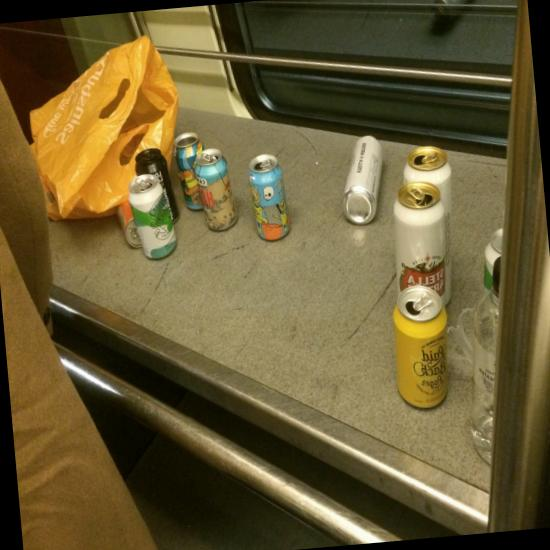Clear plastic bottle: (470, 255, 500, 464)
Drink can: (403, 146, 451, 305), (393, 284, 448, 408), (393, 181, 445, 305), (128, 173, 176, 258), (342, 135, 383, 225), (248, 154, 289, 240), (194, 148, 237, 230), (135, 148, 179, 223), (173, 132, 204, 209), (483, 226, 503, 292), (116, 200, 142, 247)
Pop tab: (413, 290, 432, 310), (407, 184, 424, 199), (421, 152, 437, 162), (135, 177, 148, 189), (200, 153, 213, 161), (259, 159, 271, 167), (130, 227, 138, 239)
Single-use carrier bag: (29, 34, 178, 220)
